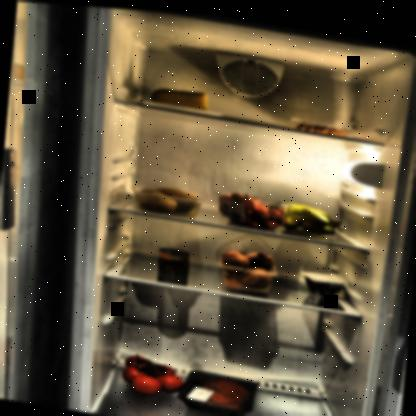banana: (281, 196, 346, 234)
beef: (192, 372, 252, 406)
cheese: (149, 81, 213, 113)
corn: (156, 243, 194, 277)
onion: (219, 240, 276, 289)
potato: (134, 181, 204, 215)
shrimp: (293, 114, 350, 132)
strawberries: (218, 186, 292, 228)
tomato: (118, 348, 189, 400)
